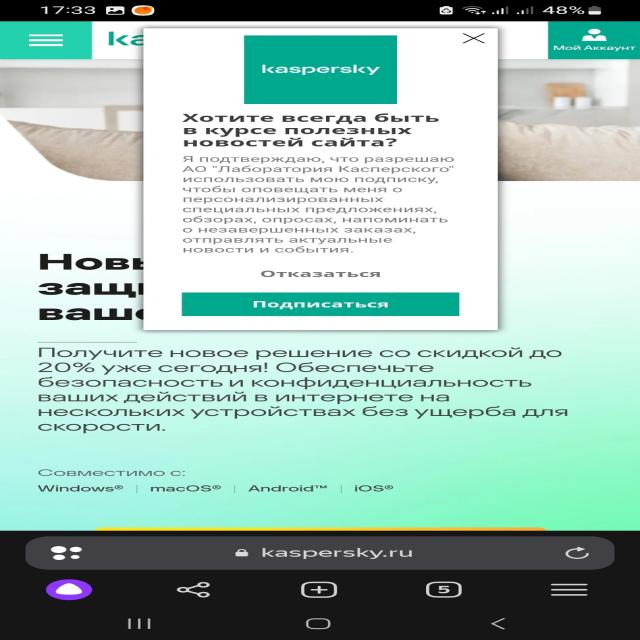button: (184, 292, 459, 317), (189, 264, 452, 284), (459, 29, 494, 46)
site: (143, 29, 498, 330)
